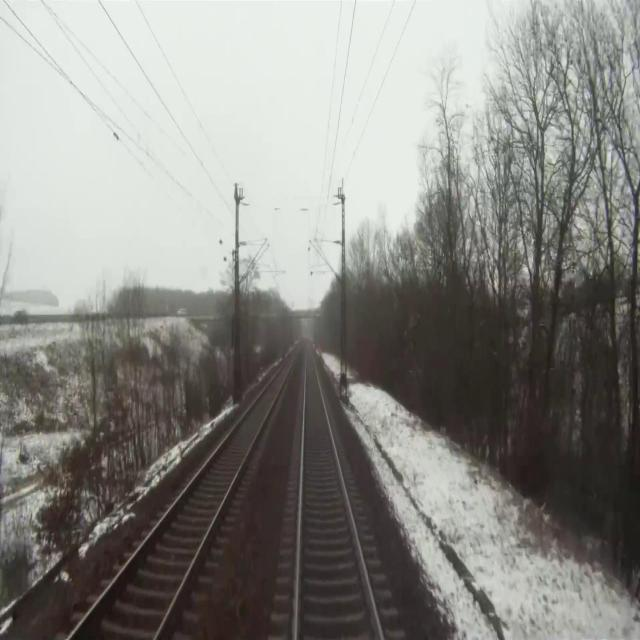rail-track: (72, 353, 295, 639), (298, 349, 379, 639)
